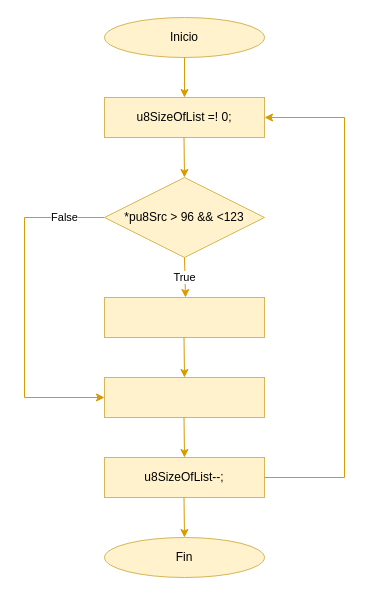
This 370x595 diagram has some shape labels left out. The centre of each missing label's shape, as x and y in pixels:
"*pu8Src -= 32" goes at point 184,317.
"pu8Src++;" goes at point 184,397.
